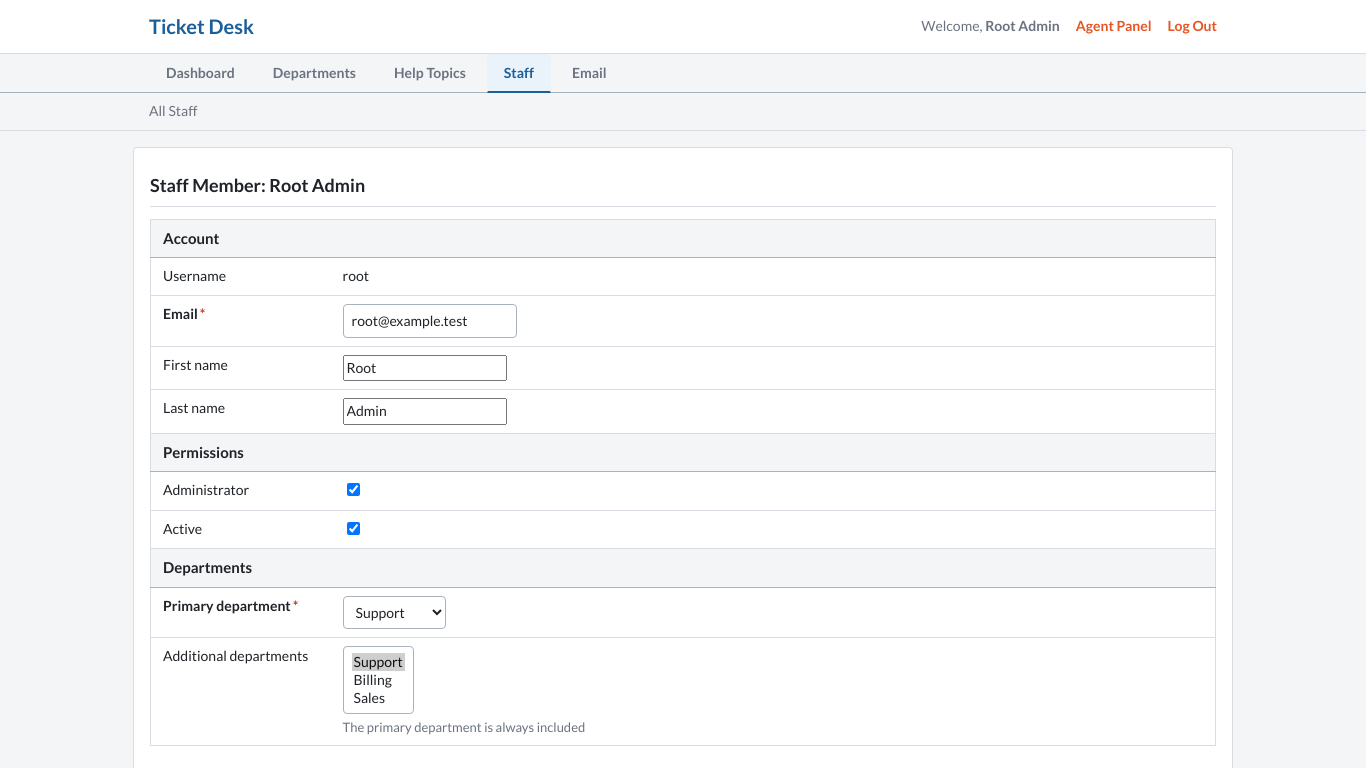
it: the last-admin conflict shows in the banner
Step 1. Click the checkbox labelled "Administrator" → (353, 490), box [346,483,360,496]
(page scrolled)
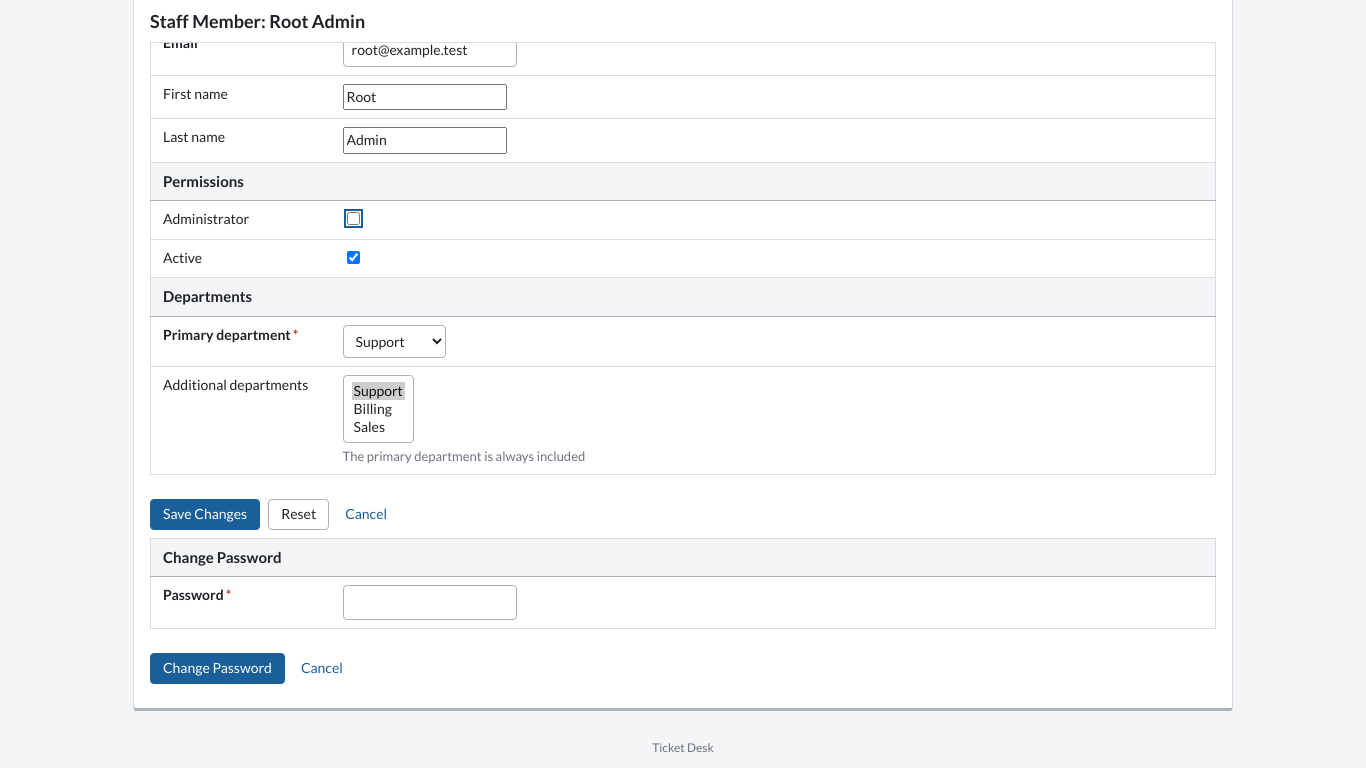
Step 2. Click the button "Save Changes" → (205, 514), box [150,499,260,530]
(page scrolled)
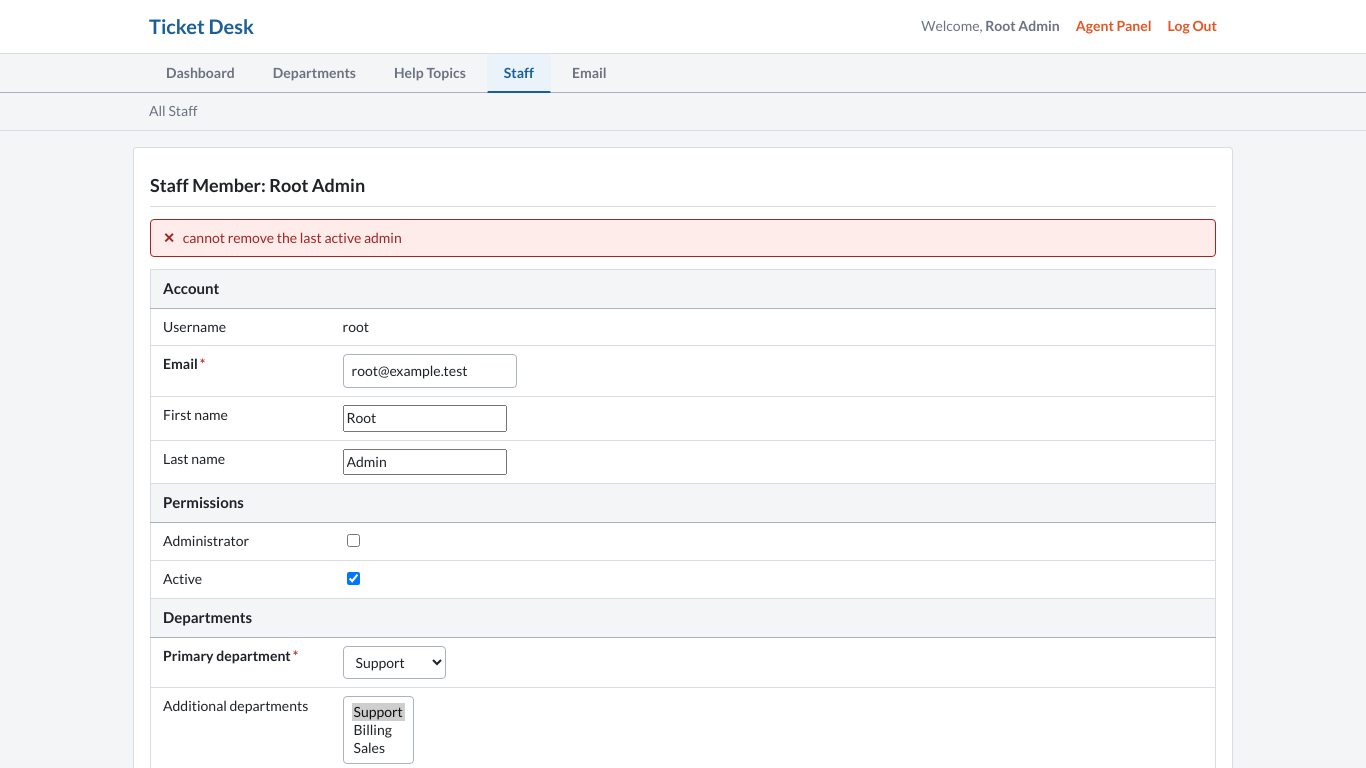
Expected: the message shows "cannot remove the last active admin", [183,229,402,246]
